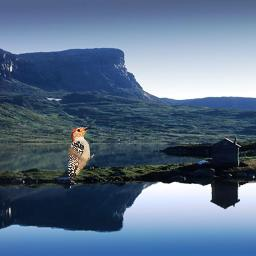Woodpecker: (68, 124, 94, 189)
